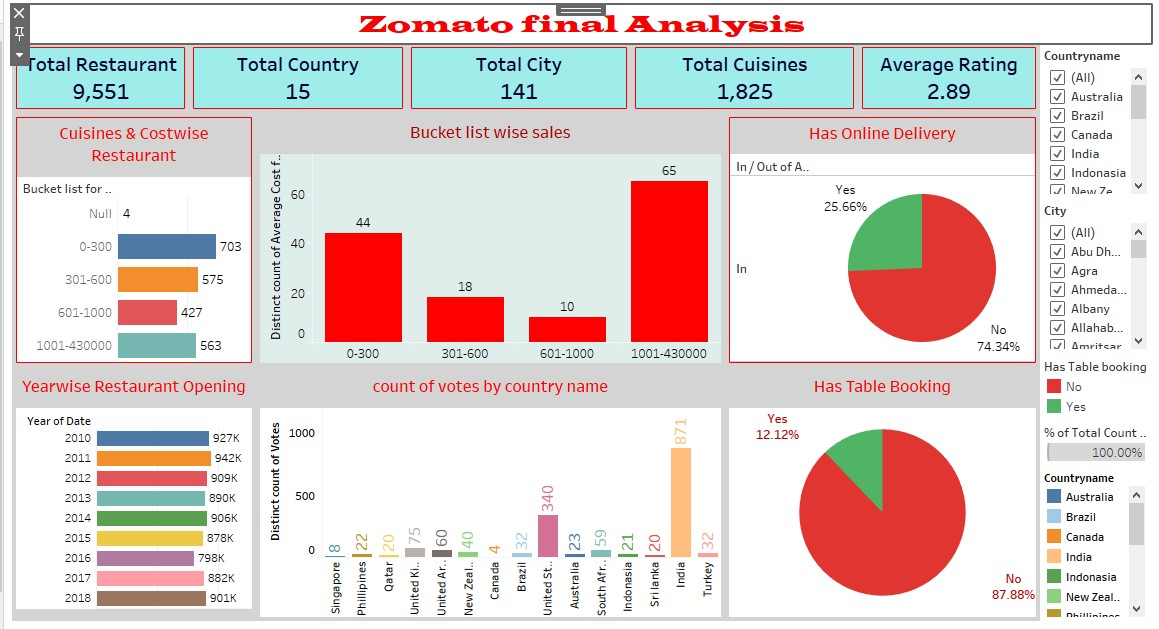

What the dashboard file says about the page in this screenshot:
{"tool":"tableau","page":{"name":"final analysis","canvas":[1000,1000],"units":"permille","ordinal":0},"visuals":[{"type":"title","box":[6.9,12.7,890,60.1]},{"type":"filter","title":"Total Country","param":"[federated.0260pii1qo4vcs162axzd0zpqhfr].[none:Countryname:nk]","box":[897,12.7,96.1,265.8]},{"type":"worksheet","title":"Total Restaurant ","mark":"Automatic","box":[6.9,72.8,153.2,110.8]},{"type":"worksheet","title":"Total Country","mark":"Automatic","box":[160.2,72.8,188.8,110.8]},{"type":"worksheet","title":"Total City","mark":"Automatic","box":[348.9,72.8,193.9,110.8]},{"type":"worksheet","title":"Total Cuisines","mark":"Automatic","box":[542.9,72.8,196.5,110.8]},{"type":"worksheet","title":"Avg Rating","mark":"Automatic","box":[739.4,72.8,157.6,110.8]},{"type":"worksheet","title":"Cuisines & Costwise Restaurant","mark":"Automatic","rows":["Calculation_1047931380030693383"],"cols":["Cuisines"],"box":[6.9,183.5,211.2,401.9]},{"type":"worksheet","title":"Bucket Listwise Sales","mark":"Automatic","rows":["Average_Cost_for_two"],"cols":["Calculation_1047931380030693383"],"box":[218.2,183.5,406.1,401.9]},{"type":"worksheet","title":"Has Online Delivery","mark":"Pie","rows":["Action (Countryname)"],"box":[624.2,183.5,272.7,401.9]},{"type":"filter","title":"Total City","param":"[federated.0260pii1qo4vcs162axzd0zpqhfr].[none:City:nk]","box":[897,278.5,96.1,265.8]},{"type":"legend","title":"Has Table booking","param":"[federated.0260pii1qo4vcs162axzd0zpqhfr].[none:Has_Table_booking:nk]","box":[897,544.3,96.1,104.4]},{"type":"worksheet","title":"Yearwise Sales","mark":"Bar","rows":["Calculation_1047931380027269120"],"cols":["Calculation_1047931380030386182"],"box":[6.9,585.4,211.2,401.9]},{"type":"worksheet","title":"count of votes by country name","mark":"Automatic","rows":["Votes"],"cols":["Countryname"],"box":[218.2,585.4,406.1,401.9]},{"type":"worksheet","title":"Has Table booking","mark":"Pie","box":[624.2,585.4,272.7,401.9]},{"type":"legend","title":"Has Table booking","param":"[federated.0260pii1qo4vcs162axzd0zpqhfr].[pcto:cnt:RestaurantID:qk:1]","box":[897,648.7,96.1,72.8]},{"type":"legend","title":"count of votes by country name","param":"[federated.0260pii1qo4vcs162axzd0zpqhfr].[none:Countryname:nk]","box":[897,721.5,96.1,265.8]}]}

Visuals, with their boxes on the dashboard's canvas, which has no fixed pixel size, in thousandths of its width and height (x1, y1, x2, y2). These are canvas units, not pixel positions in the 1159x629 screenshot, which may show the page scaled, cropped or inside an application window:
title: (left=7, top=13, right=897, bottom=73)
"Total Country" filter: (left=897, top=13, right=993, bottom=278)
"Total Restaurant " worksheet: (left=7, top=73, right=160, bottom=184)
"Total Country" worksheet: (left=160, top=73, right=349, bottom=184)
"Total City" worksheet: (left=349, top=73, right=543, bottom=184)
"Total Cuisines" worksheet: (left=543, top=73, right=739, bottom=184)
"Avg Rating" worksheet: (left=739, top=73, right=897, bottom=184)
"Cuisines & Costwise Restaurant" worksheet: (left=7, top=184, right=218, bottom=585)
"Bucket Listwise Sales" worksheet: (left=218, top=184, right=624, bottom=585)
"Has Online Delivery" worksheet (Pie marks): (left=624, top=184, right=897, bottom=585)
"Total City" filter: (left=897, top=278, right=993, bottom=544)
"Has Table booking" legend: (left=897, top=544, right=993, bottom=649)
"Yearwise Sales" worksheet (Bar marks): (left=7, top=585, right=218, bottom=987)
"count of votes by country name" worksheet: (left=218, top=585, right=624, bottom=987)
"Has Table booking" worksheet (Pie marks): (left=624, top=585, right=897, bottom=987)
"Has Table booking" legend: (left=897, top=649, right=993, bottom=722)
"count of votes by country name" legend: (left=897, top=722, right=993, bottom=987)
